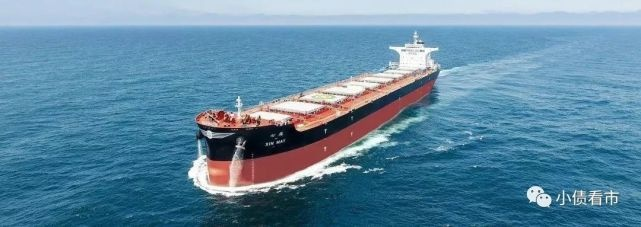Cargoship: (192, 27, 446, 193)
